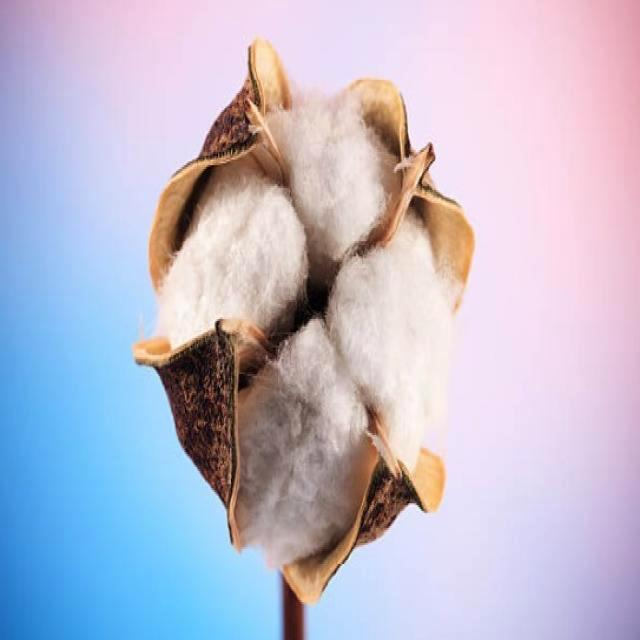Matured Cotton Boll: (140, 68, 458, 554)
